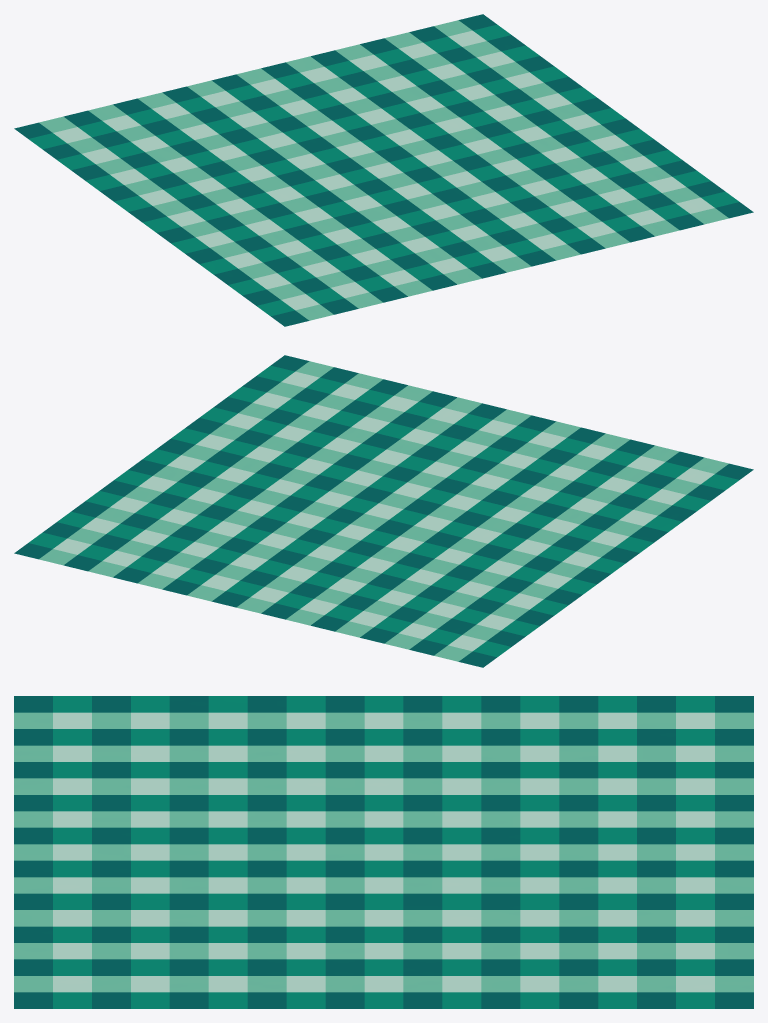
3 views of the same model, one above another, from view 1: azimuth 30°, elevation 25°; view 2: azimuth 150°, elevation 25°; view 3: azimuth 270°, elevation 25° (orthographic). The views are drawn at different scales.
Parts seen in each view (by area): view 1: Plane.012, Plane.001, Plane.013, Plane.005, Plane.007, Plane.008, Plane.011, Plane.009, Plane.010, Plane.003, Plane.014, Plane.015 (+4 smaller); view 2: Plane.001, Plane.012, Plane.013, Plane.007, Plane.005, Plane.009, Plane.010, Plane.008, Plane.011, Plane.014, Plane.015, Plane.003 (+4 smaller); view 3: Plane.008, Plane.009, Plane.010, Plane.011, Plane.005, Plane.007, Plane.001, Plane.012, Plane.013, Plane.004, Plane.006, Plane.003 (+4 smaller).
Part boxes in pixels (left/top/right/bottom): Plane.012: left=39, top=68, right=388, bottom=216; Plane.001: left=182, top=172, right=531, bottom=320; Plane.013: left=167, top=162, right=516, bottom=310; Plane.005: left=142, top=168, right=492, bottom=316; Plane.007: left=389, top=108, right=739, bottom=255; Plane.008: left=14, top=74, right=363, bottom=222; Plane.011: left=404, top=118, right=753, bottom=266; Plane.009: left=157, top=178, right=506, bottom=326; Plane.010: left=261, top=14, right=610, bottom=162; Plane.003: left=428, top=124, right=728, bottom=260; Plane.014: left=286, top=20, right=585, bottom=155; Plane.015: left=414, top=114, right=714, bottom=249; Plane.001: left=379, top=409, right=728, bottom=557; Plane.012: left=236, top=513, right=585, bottom=661; Plane.013: left=365, top=420, right=714, bottom=567; Plane.007: left=142, top=365, right=492, bottom=513; Plane.005: left=389, top=426, right=739, bottom=573; Plane.009: left=404, top=415, right=753, bottom=563; Plane.010: left=14, top=459, right=363, bottom=607; Plane.008: left=261, top=519, right=610, bottom=667; Plane.011: left=157, top=355, right=506, bottom=503; Plane.014: left=39, top=465, right=339, bottom=601; Plane.015: left=167, top=371, right=467, bottom=507; Plane.003: left=182, top=361, right=481, bottom=496; Plane.008: left=403, top=696, right=753, bottom=844; Plane.009: left=14, top=696, right=364, bottom=844; Plane.010: left=403, top=860, right=753, bottom=1008; Plane.011: left=14, top=860, right=364, bottom=1008; Plane.005: left=53, top=696, right=403, bottom=844; Plane.007: left=53, top=860, right=403, bottom=1008; Plane.001: left=14, top=712, right=364, bottom=860; Plane.012: left=403, top=712, right=753, bottom=860; Plane.013: left=53, top=712, right=403, bottom=860; Plane.004: left=442, top=696, right=714, bottom=844; Plane.006: left=442, top=860, right=714, bottom=1008; Plane.003: left=14, top=877, right=364, bottom=992.
Size of the model in its own units: 16646 by 0.00271 by 16646.
Materials: 1 (1 with a texture image).
